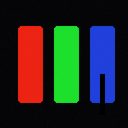4 line_v: (100, 74, 104, 114)
